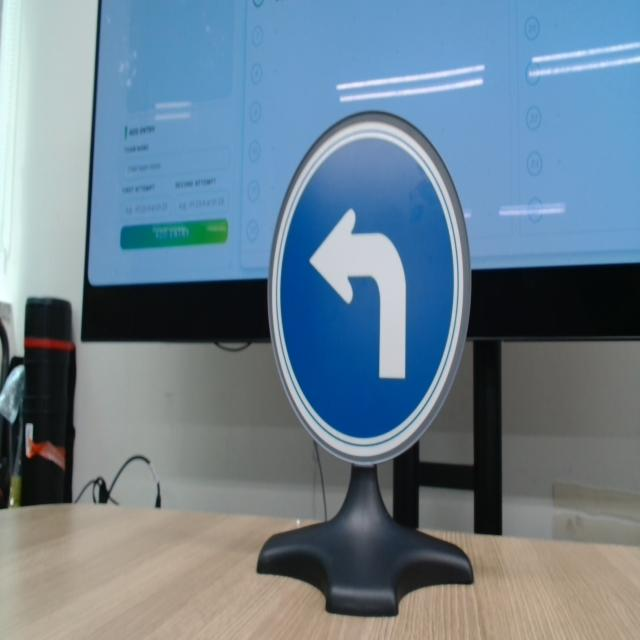left_direction: (264, 109, 480, 471)
